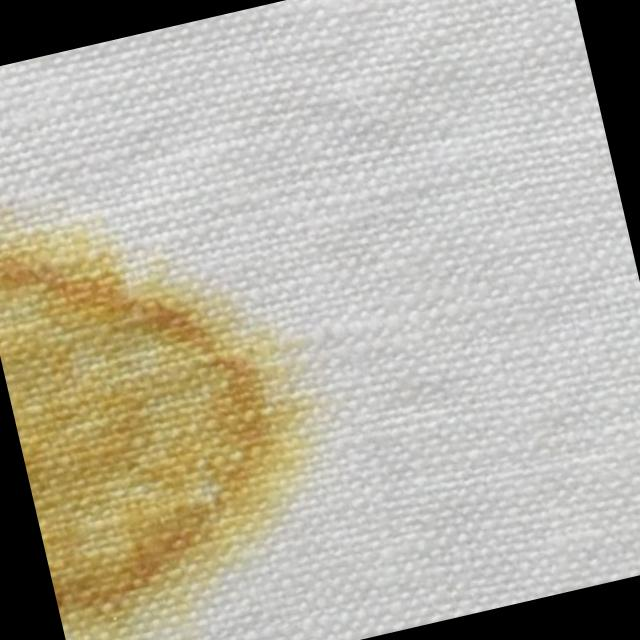Stain: (0, 129, 361, 640)
